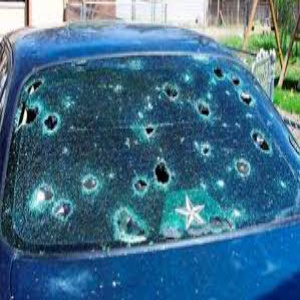rear_windshield_glass: (26, 71, 280, 220)
